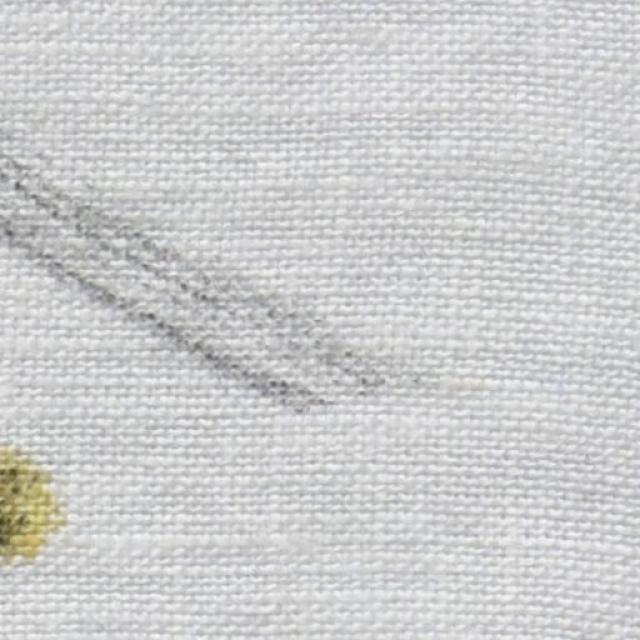Stain: (1, 131, 397, 412), (0, 443, 69, 588)
